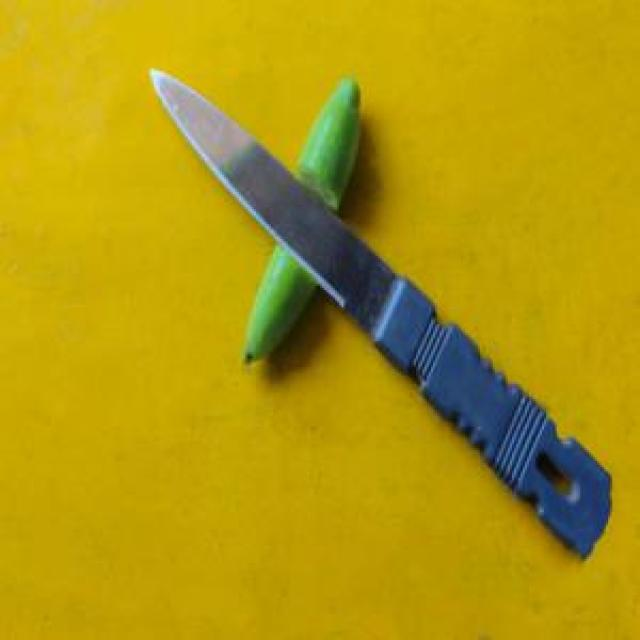knife: (147, 64, 617, 565)
